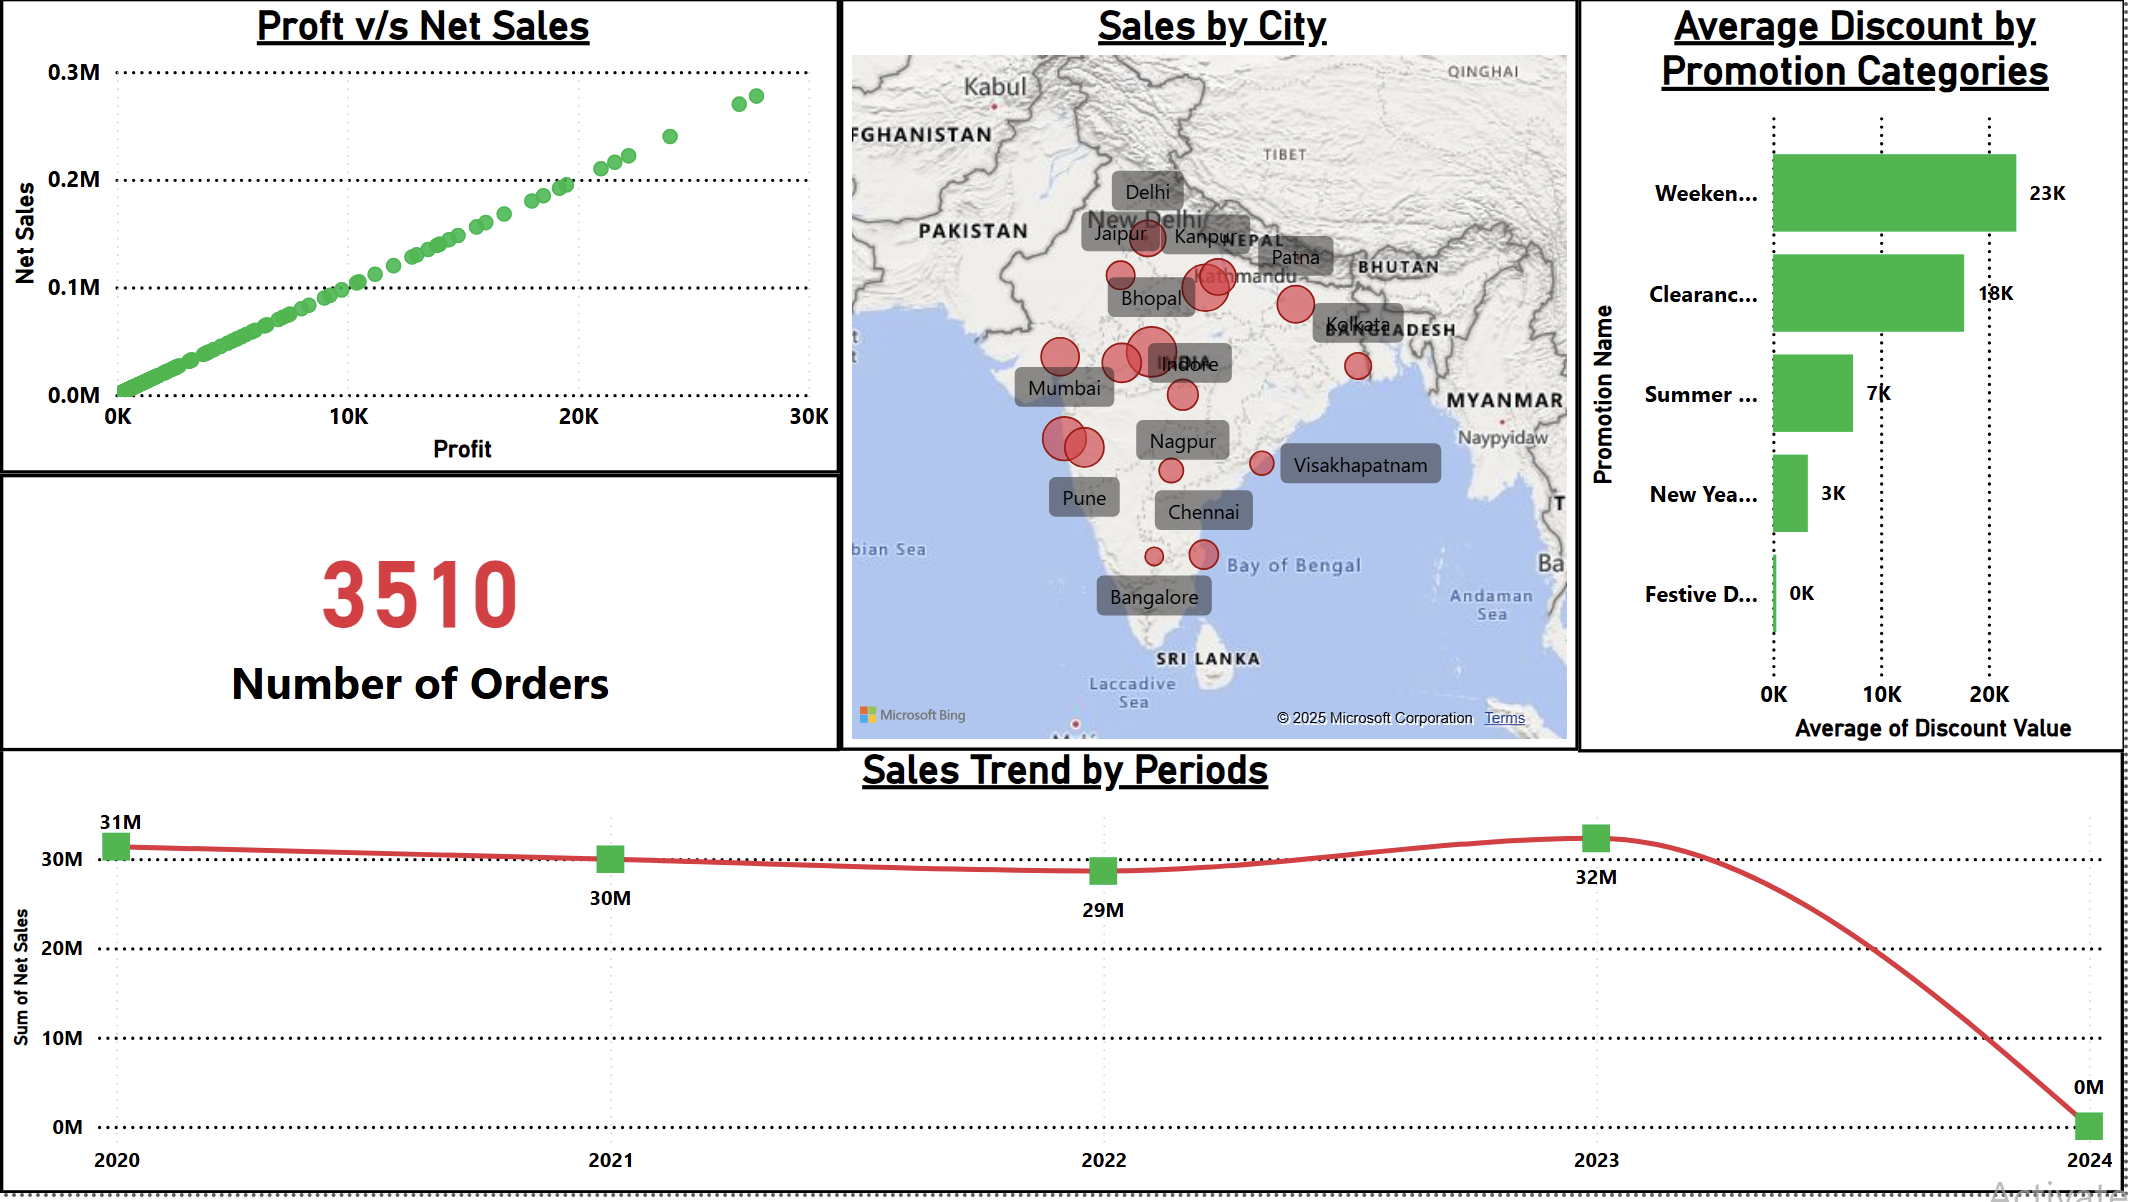

What the dashboard file says about the page in this screenshot:
{"tool":"powerbi","page":{"name":"Overview","canvas":[1280,720],"ordinal":0},"visuals":[{"type":"lineChart","title":"Sales Trend by Periods","fields":{"Y":["Sum(Fact Table.Net Sales)"],"Category":["Fact Table.Date (dd/mm/yyyy).Variation.Date Hierarchy.Year"]},"box":[0,448.7,1279.5,271.8],"z":0},{"type":"scatterChart","title":"Proft v/s Net Sales","fields":{"X":["Fact Table.Profit"],"Y":["Fact Table.Net Sales"]},"box":[0,0,506,286.6],"z":1000},{"type":"barChart","title":"Average Discount by Promotion Categories","fields":{"Y":["Avg(Fact Table.Discount Value)"],"Category":["Dim Promotion.Promotion Name"]},"box":[950,0,330,454.3],"z":2000},{"type":"map","title":"Sales by City","fields":{"Category":["Dim Customers.City"],"Size":["Sum(Fact Table.Net Sales)"]},"box":[506,0,444.8,453.7],"z":3000},{"type":"card","title":"Proft v/s Net Sales","fields":{"Values":["Count(Fact Table.Order ID)"]},"box":[0,286.6,506,167.2],"z":3001}]}

Visuals, with their boxes in screenshot pixels (x1, y1, x2, y2), scaled from the page's 1280x720 canvas onto the 2132x1202 screenshot:
"Sales Trend by Periods" lineChart: {"left": 0, "top": 749, "right": 2131, "bottom": 1201}
"Proft v/s Net Sales" scatterChart: {"left": 0, "top": 0, "right": 843, "bottom": 478}
"Average Discount by Promotion Categories" barChart: {"left": 1582, "top": 0, "right": 2131, "bottom": 758}
"Sales by City" map: {"left": 843, "top": 0, "right": 1584, "bottom": 757}
"Proft v/s Net Sales" card: {"left": 0, "top": 478, "right": 843, "bottom": 758}
